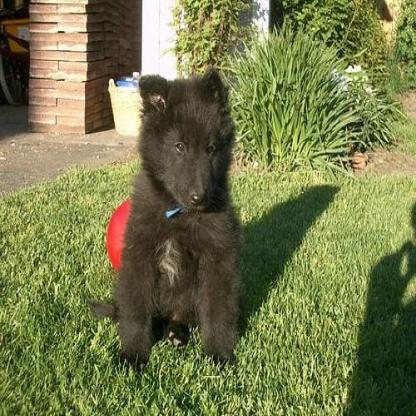groenendael: (84, 49, 248, 368)
